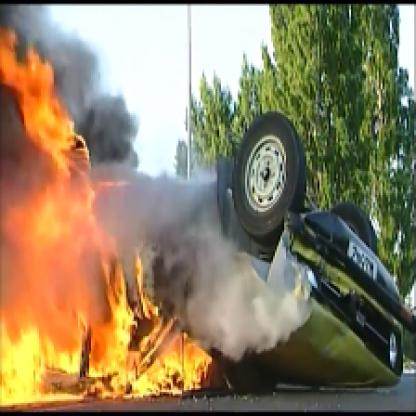Fire: (2, 39, 223, 401)
